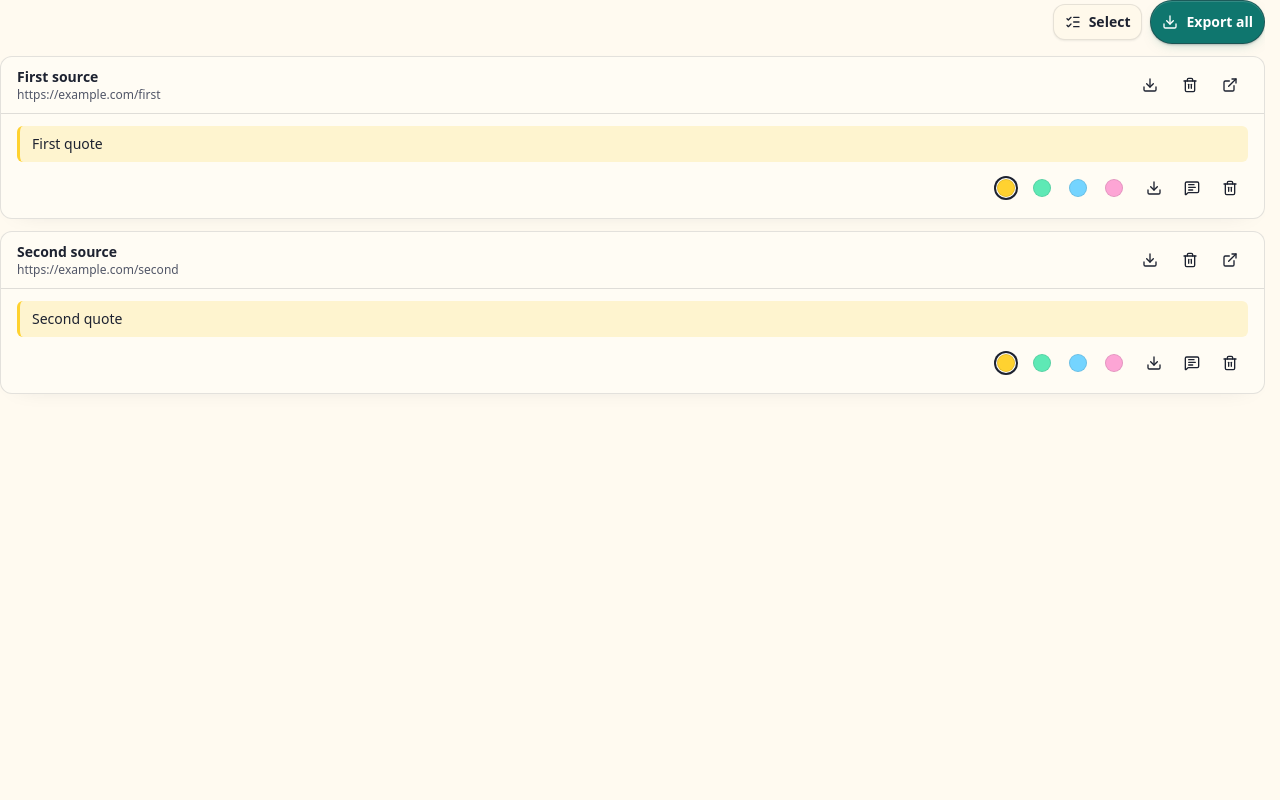
ReadspaceHighlights › moves all selected highlights to Trash after confirmation
This screenshot has width=1280, height=800.
Step 1. Click the button "Select" → click(1098, 22), box [1053,4,1142,40]
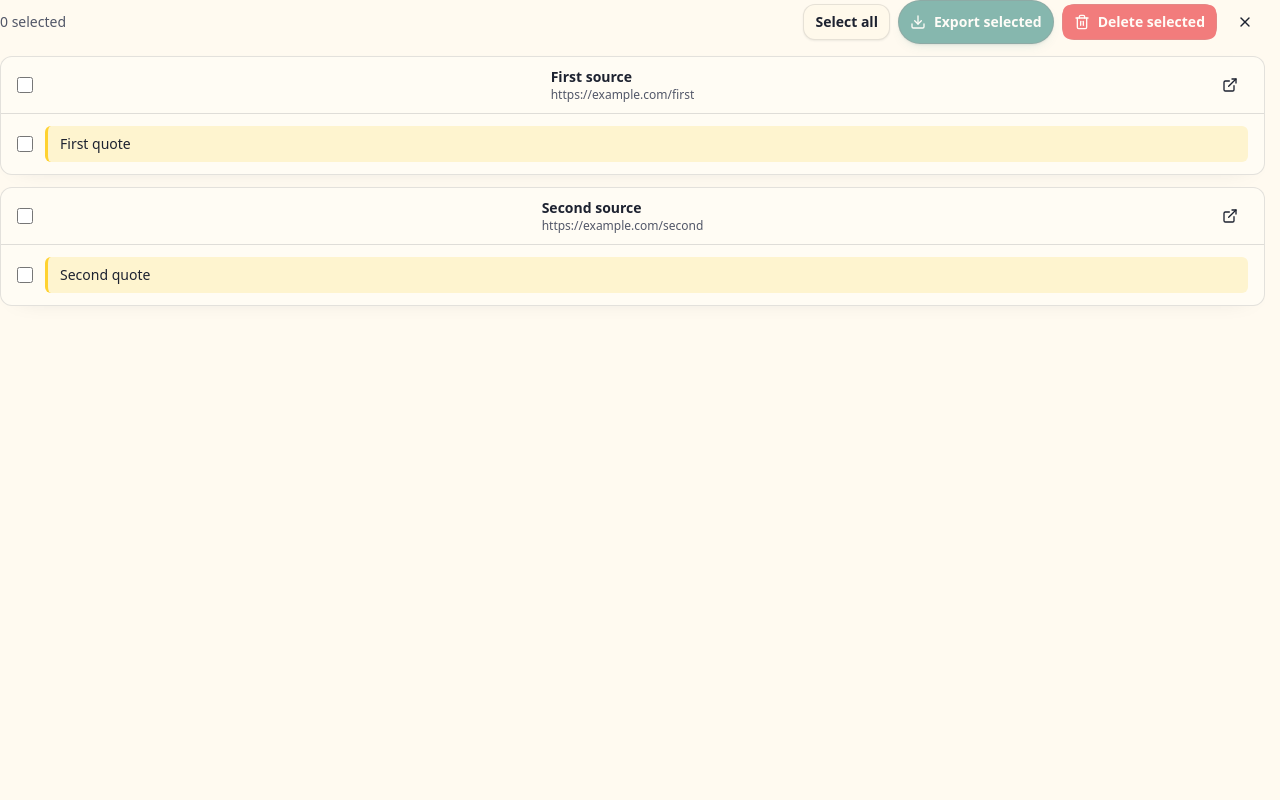
Step 2. Click the button "Select all" → click(847, 22), box [804,4,890,40]
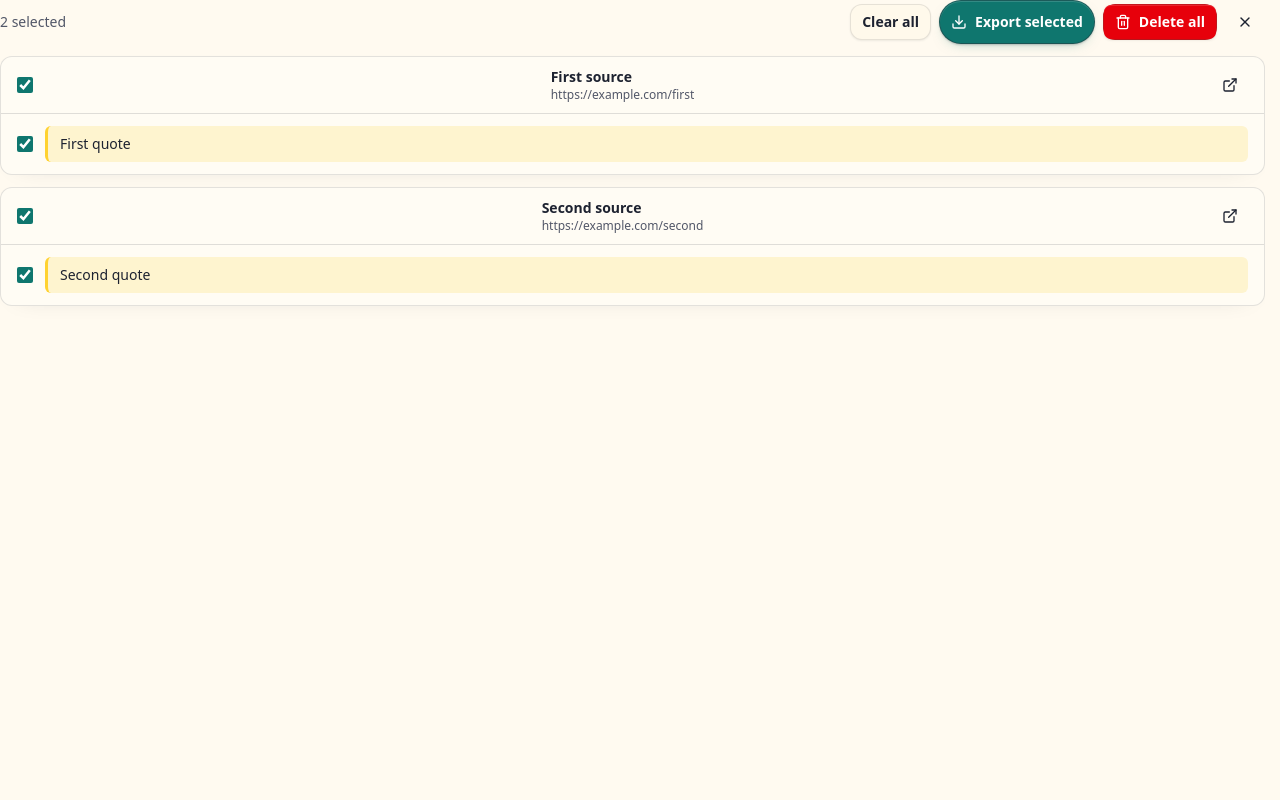
Step 3. Click the button "Delete all" → click(1160, 22), box [1103,4,1217,40]
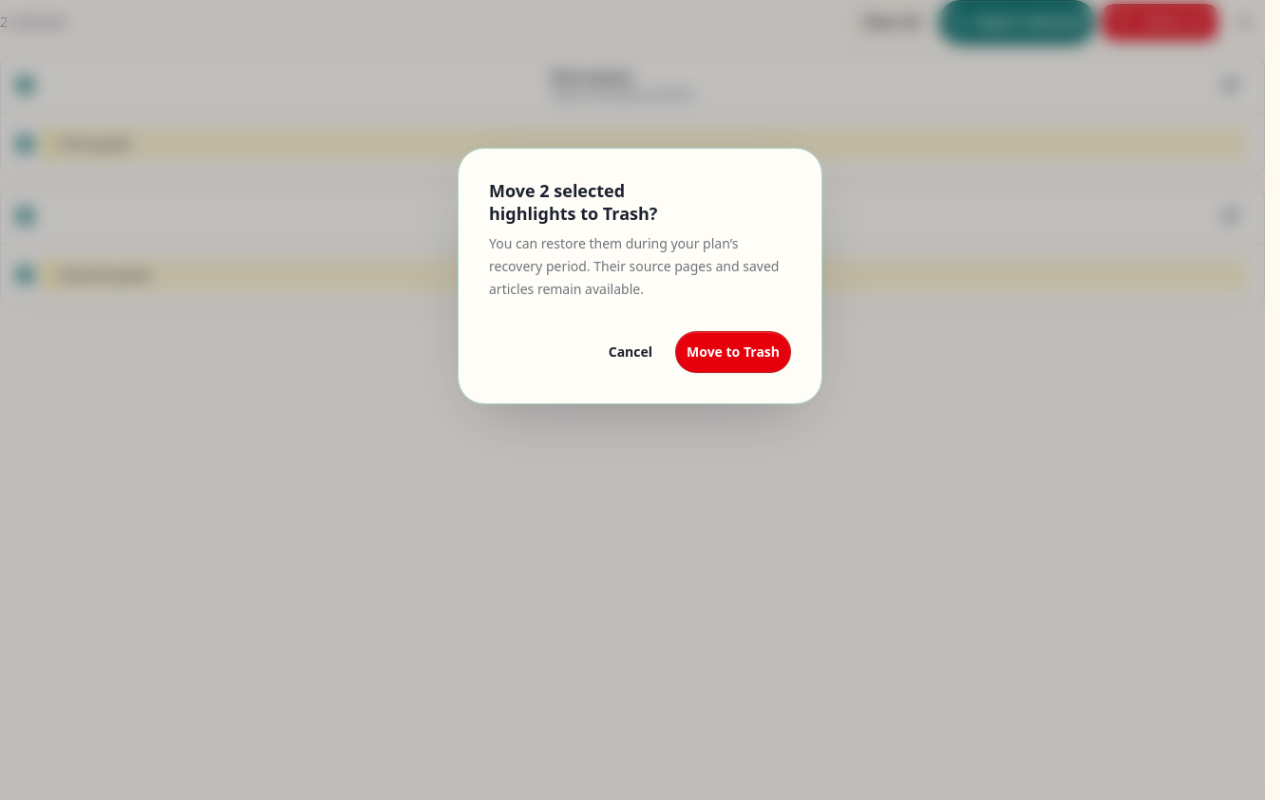
Result: the text "Move 2 selected highlights to Trash?" is shown at [489,179,658,224]
Step 4. Click the button "Move to Trash" → click(733, 352), box [675,331,791,372]
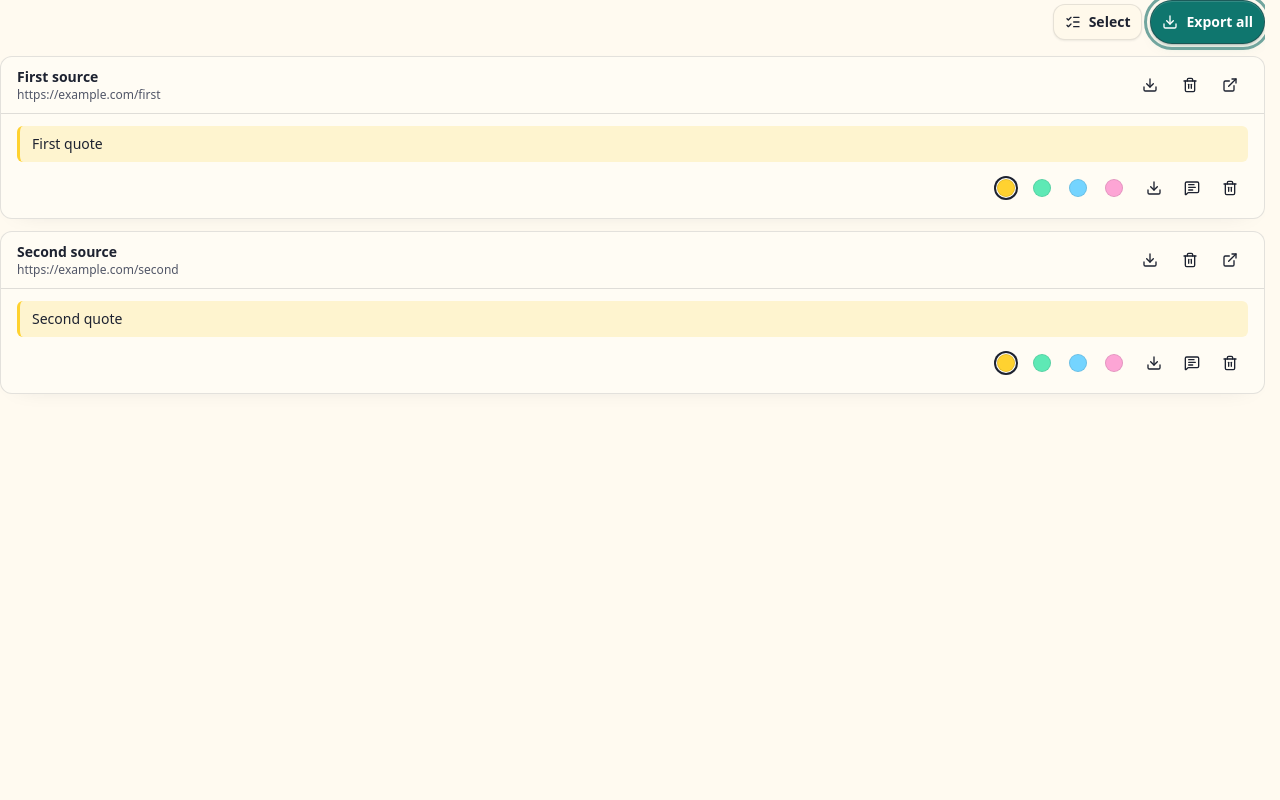
Result: the text "selected" is gone
